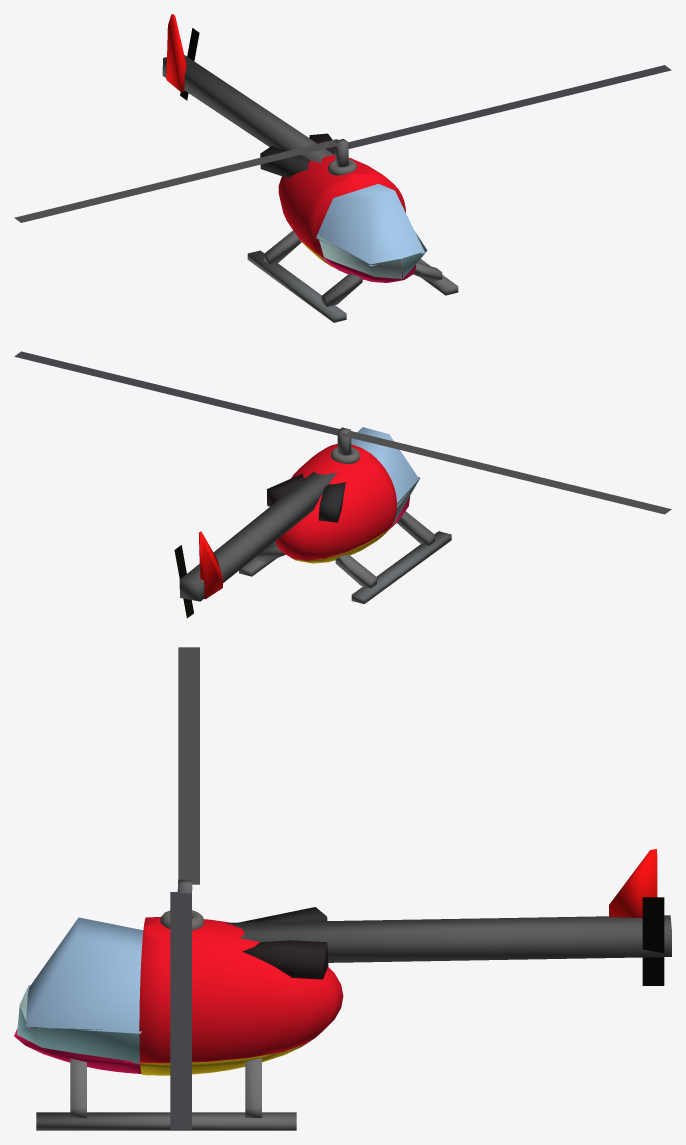
File: helicopter.obj
3 views of the same model, one above another, from view 1: azimuth 30°, elevation 25°; view 2: azimuth 150°, elevation 25°; view 3: azimuth 270°, elevation 25° (orthographic). The views are drawn at different scales.
Parts seen in each view (by area): view 1: Mesh, cube103, rectangle83, cube86, cube46, cube98, cube71; view 2: Mesh, rectangle83, cube86, cube46, cube103, cube71, rectangle90; view 3: Mesh, cube86, cube103, rectangle83, cube46, cube98, cube71, rectangle90.
Boxes of the visible parts, box(x1,y1,x2,y2) form: Mesh: box(166, 14, 442, 306); cube103: box(316, 183, 424, 266); rectangle83: box(14, 65, 671, 222); cube86: box(162, 55, 335, 163); cube46: box(247, 250, 458, 322); cube98: box(317, 232, 427, 278); cube71: box(260, 133, 334, 178); Mesh: box(198, 444, 434, 599); rectangle83: box(14, 351, 671, 514); cube86: box(179, 471, 337, 601); cube46: box(239, 531, 451, 603); cube103: box(351, 427, 419, 506); cube71: box(266, 473, 345, 522); rectangle90: box(174, 545, 193, 618); Mesh: box(14, 849, 657, 1117); cube86: box(226, 915, 671, 962); cube103: box(25, 917, 143, 1033); rectangle83: box(170, 647, 199, 1129); cube46: box(36, 1112, 296, 1130); cube98: box(17, 985, 139, 1063); cube71: box(239, 907, 328, 979); rectangle90: box(642, 897, 664, 985).
Size of what is drawn, in the model's own units: 6683 by 1451 by 3896.
